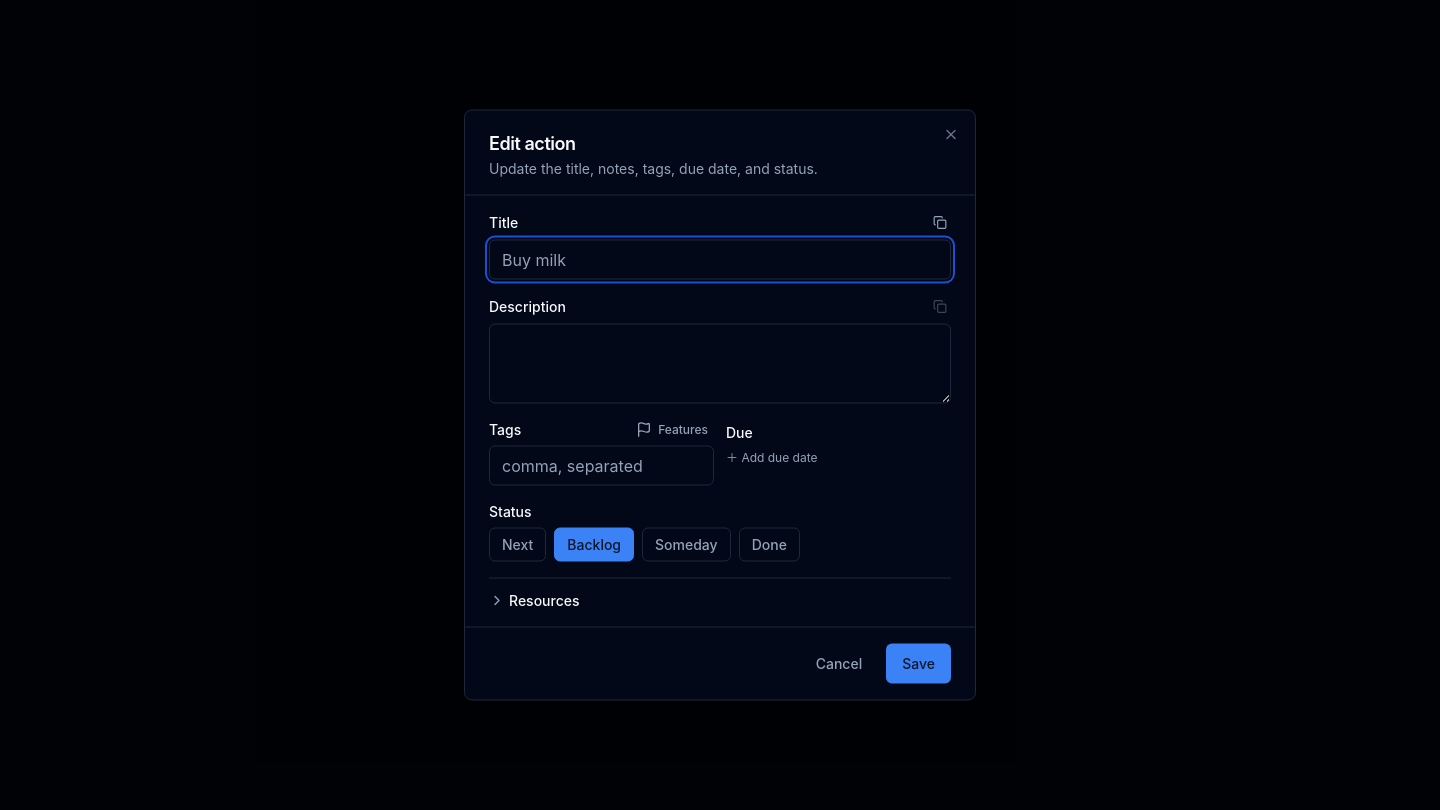
Test: ActionDialog › rejects a same-day range whose end time is before the start (#508)
Replace the text in the field labelled "Title" with "Window" at (720, 260), box left=489, top=240, right=951, bottom=280
Click the button "＋ Add due date".
click(772, 458)  # box left=726, top=450, right=817, bottom=466
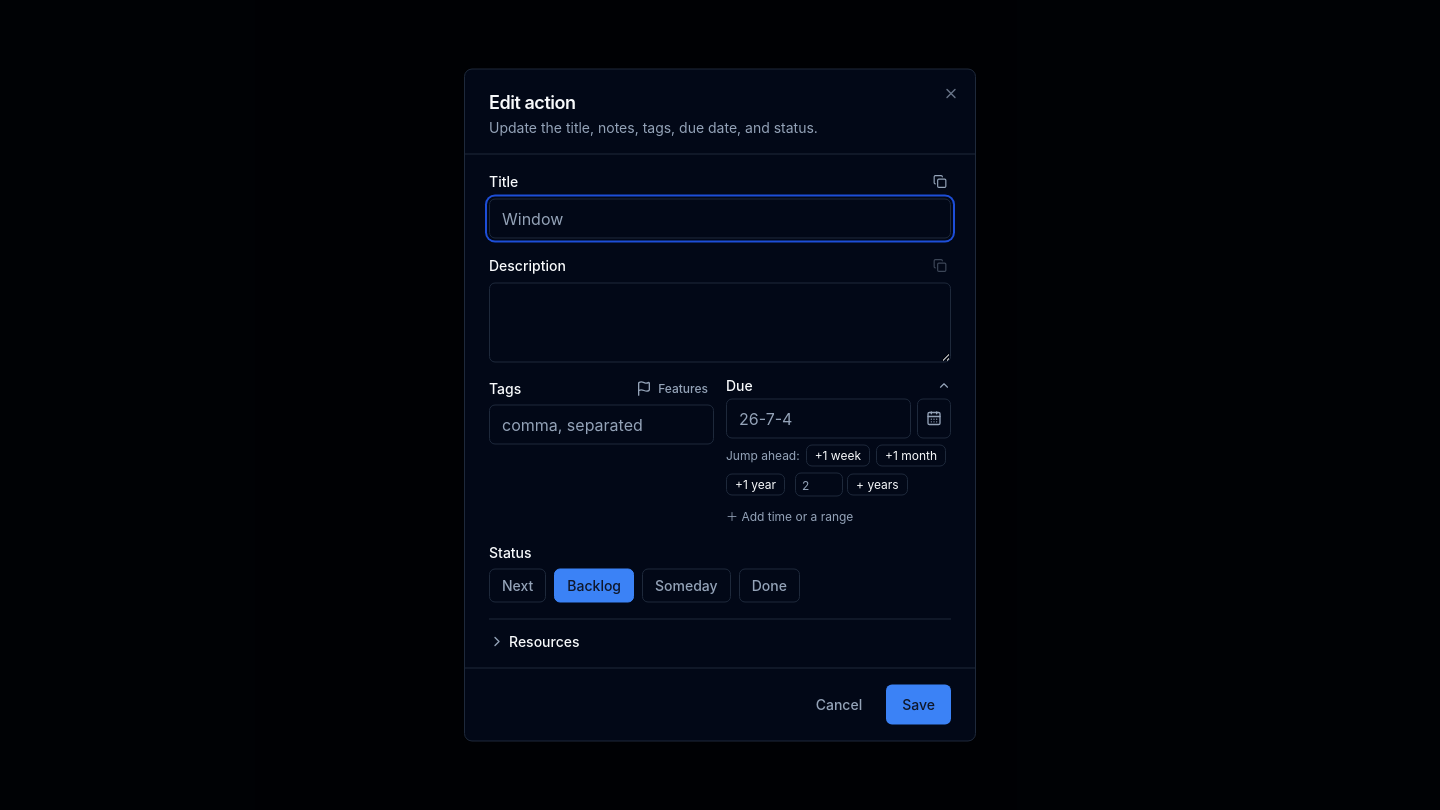
Type "2026-08-12" into the field labelled "Due".
click(818, 418); type("2026-08-12")  # box left=726, top=398, right=911, bottom=438
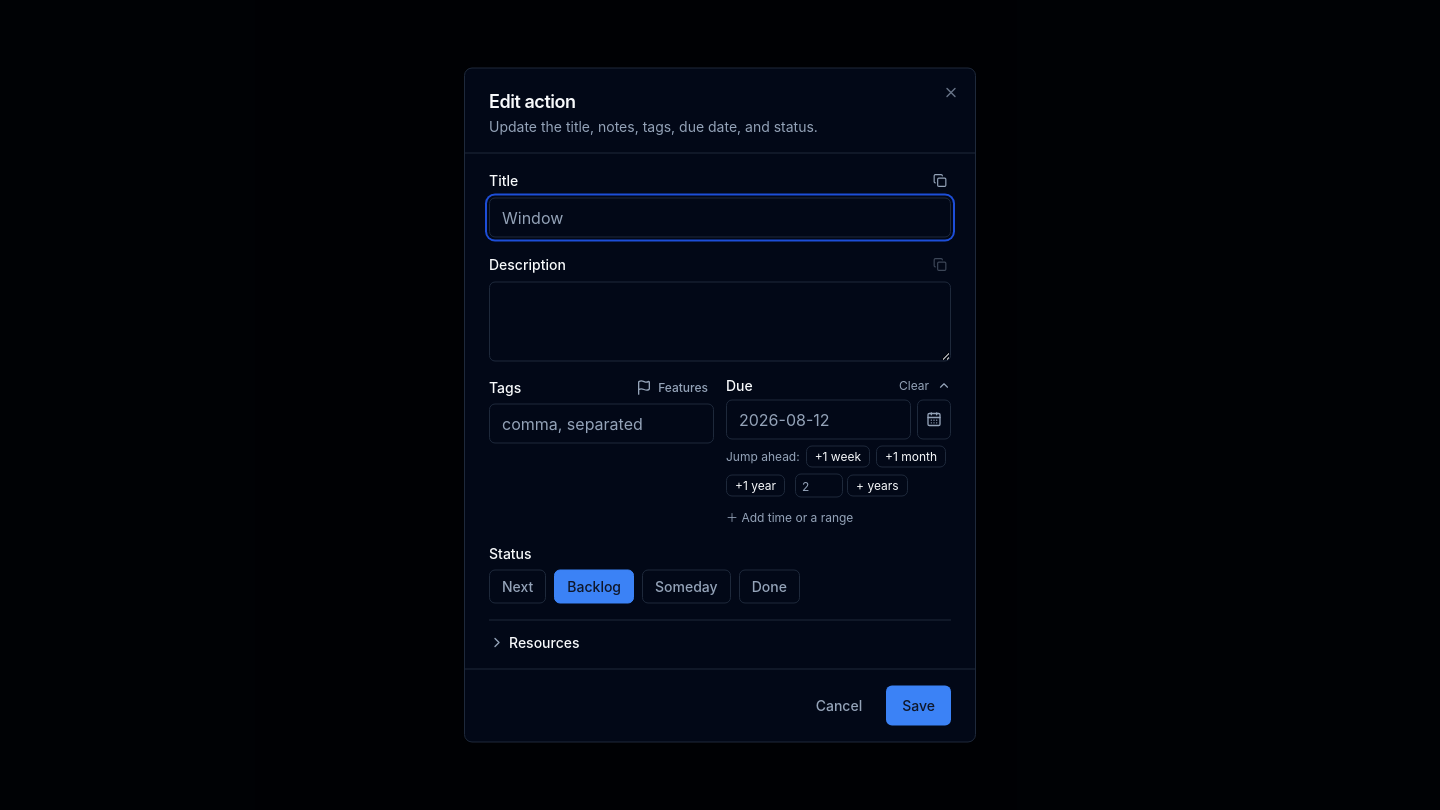
Click the button "＋ Add time or a range".
click(790, 518)  # box left=726, top=510, right=853, bottom=526
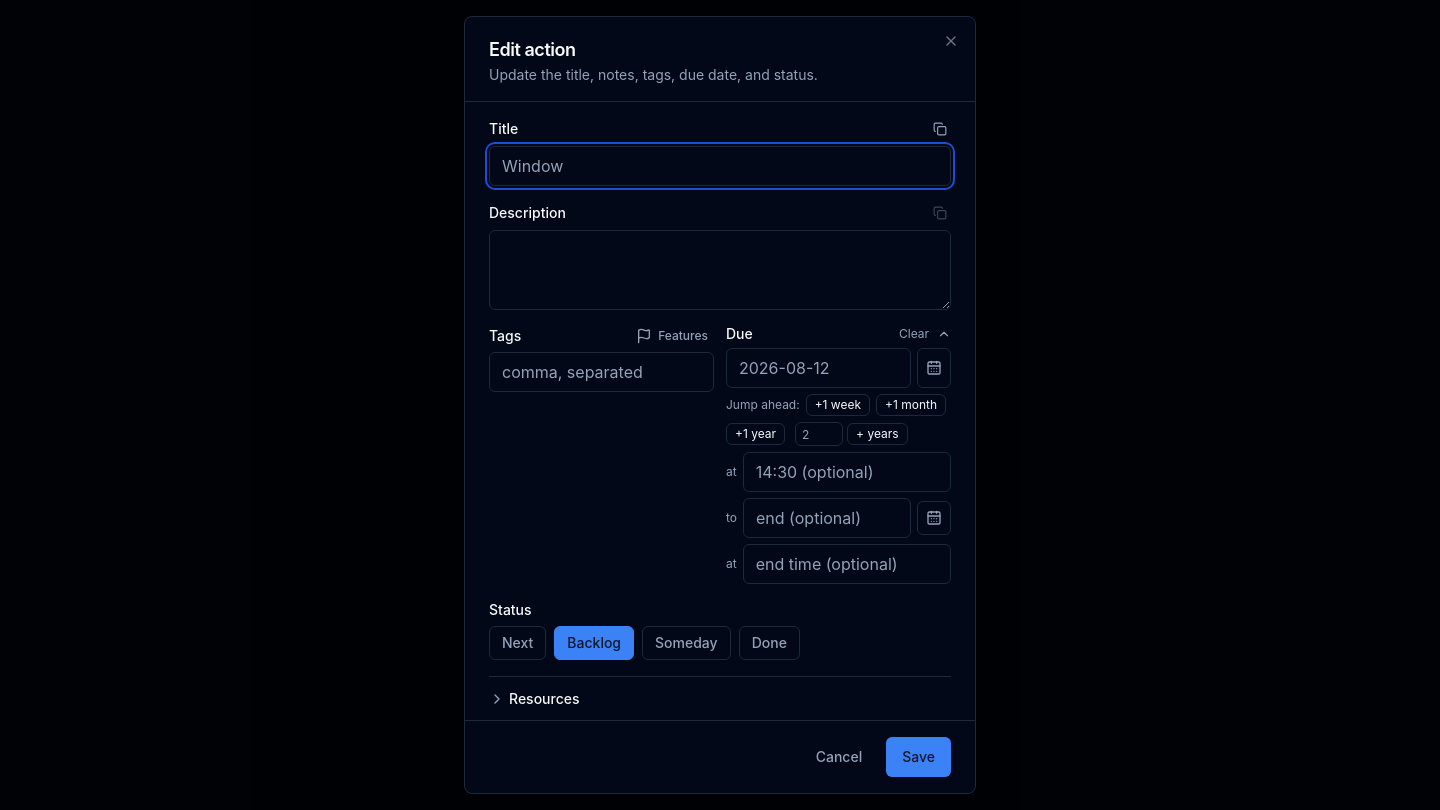
Type "14:00" into the field named "Due time (optional)".
click(847, 472); type("14:00")  # box left=743, top=452, right=951, bottom=492
Type "2026-08-12" into the field named "Due end (optional)".
click(827, 518); type("2026-08-12")  # box left=743, top=498, right=911, bottom=538
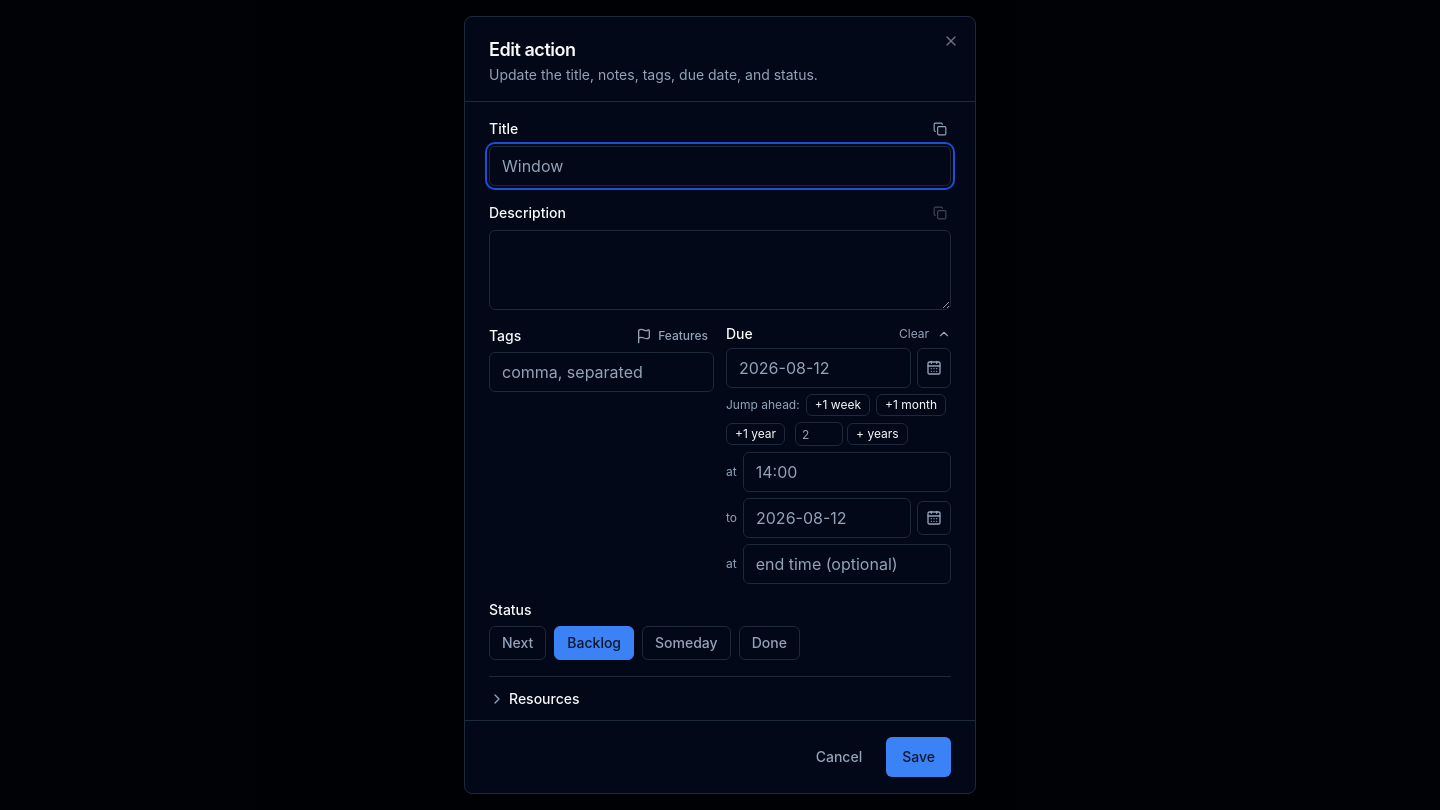
Type "09:00" into the field named "Due end time (optional)".
click(847, 564); type("09:00")  # box left=743, top=544, right=951, bottom=584
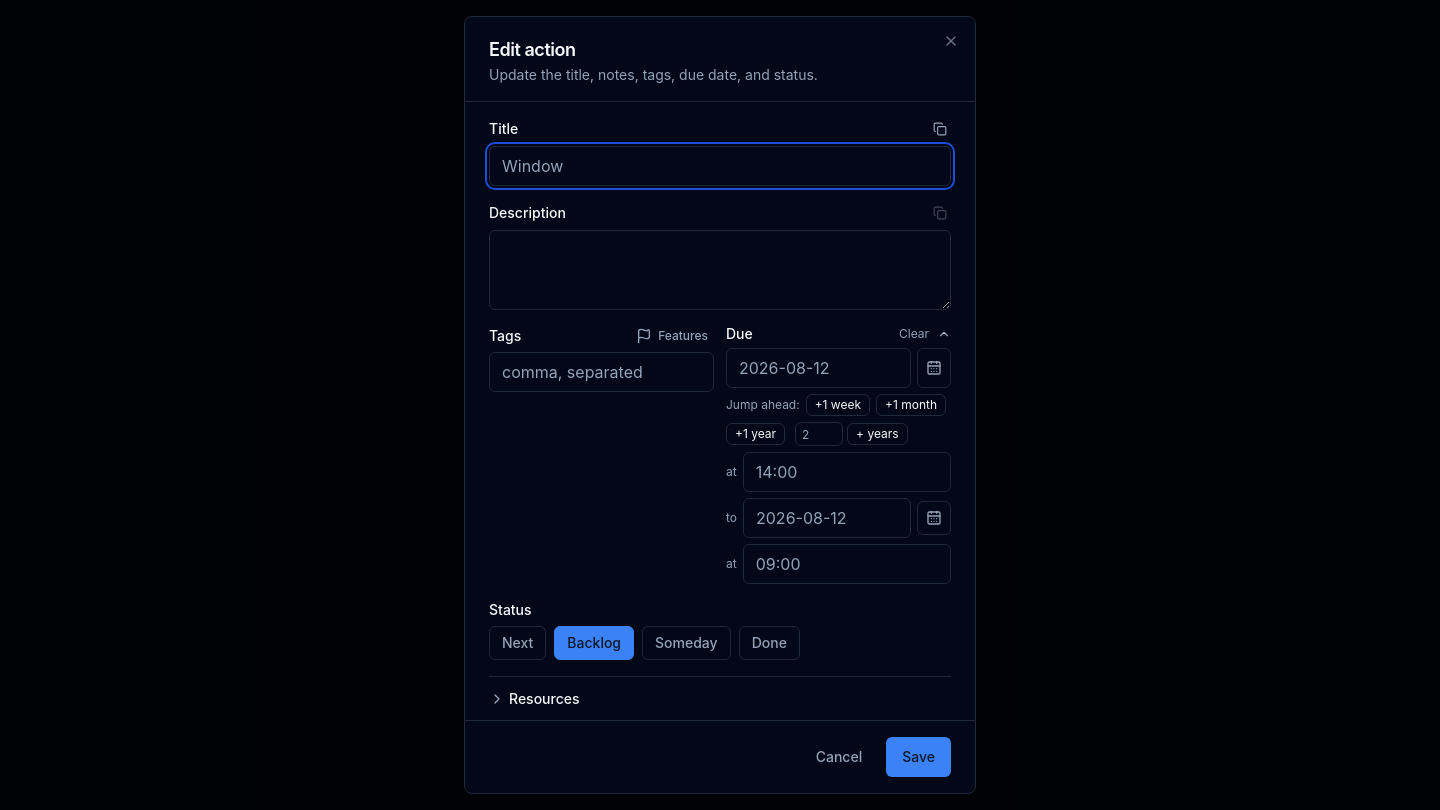
Click the button "Save".
click(919, 757)  # box left=886, top=737, right=951, bottom=777
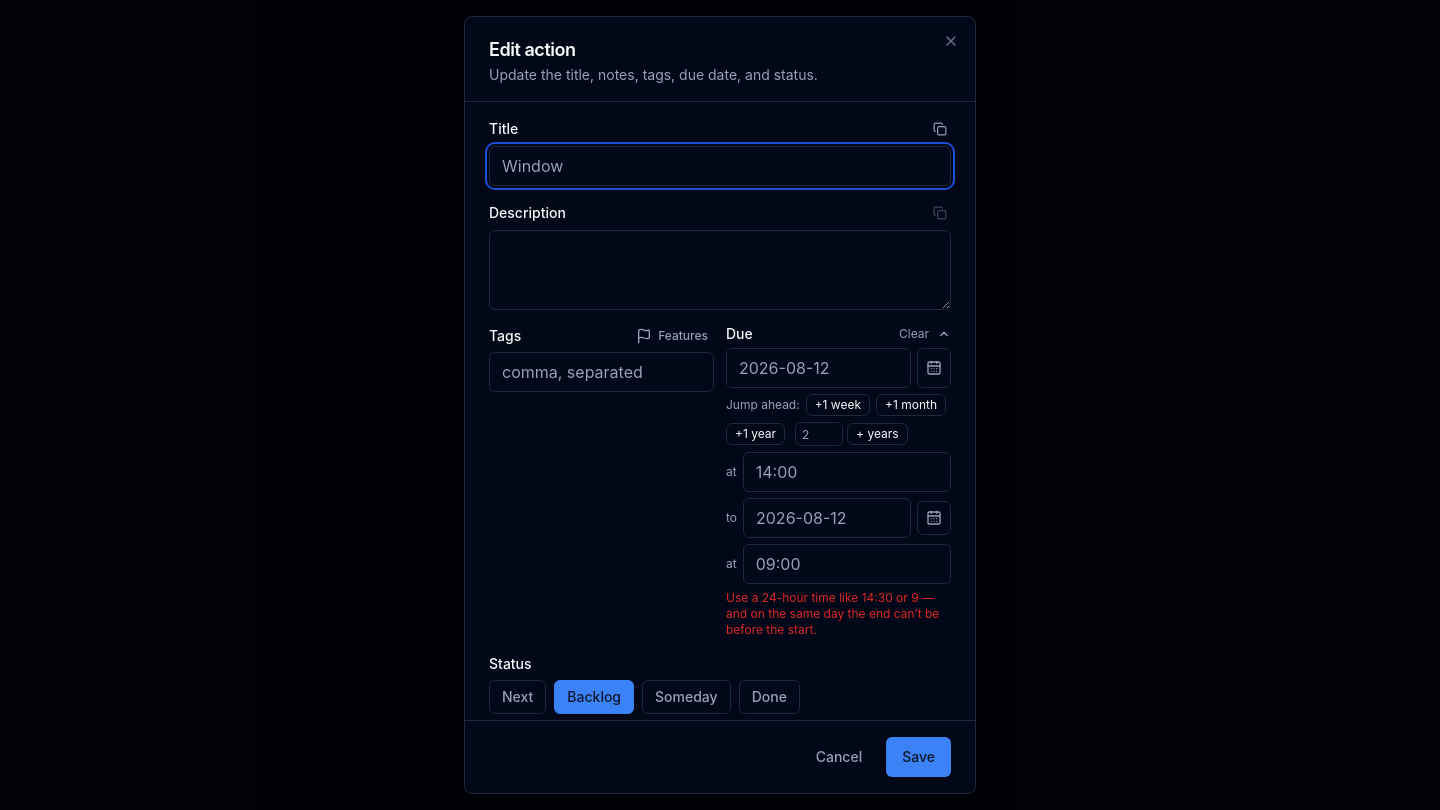
Check: the message shows "end can’t be before the start", box left=726, top=590, right=939, bottom=637
